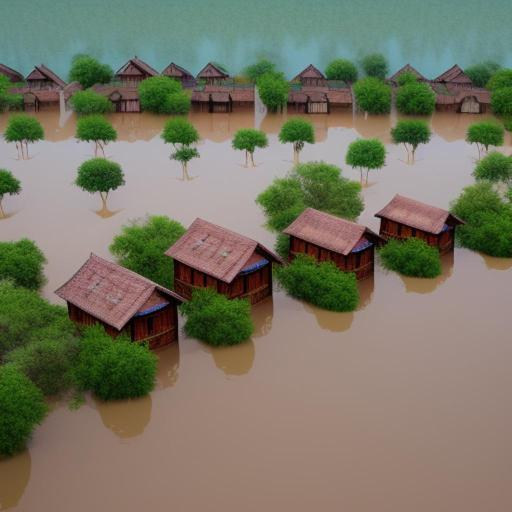flood: (0, 248, 512, 512), (0, 108, 295, 304), (301, 111, 495, 232), (498, 132, 512, 154)
house: (50, 248, 186, 354), (164, 217, 278, 321), (273, 206, 383, 288), (379, 190, 459, 270), (191, 62, 259, 116), (288, 68, 354, 118), (429, 64, 489, 116), (110, 56, 158, 112), (21, 64, 74, 112), (390, 61, 428, 93), (161, 60, 193, 86)
